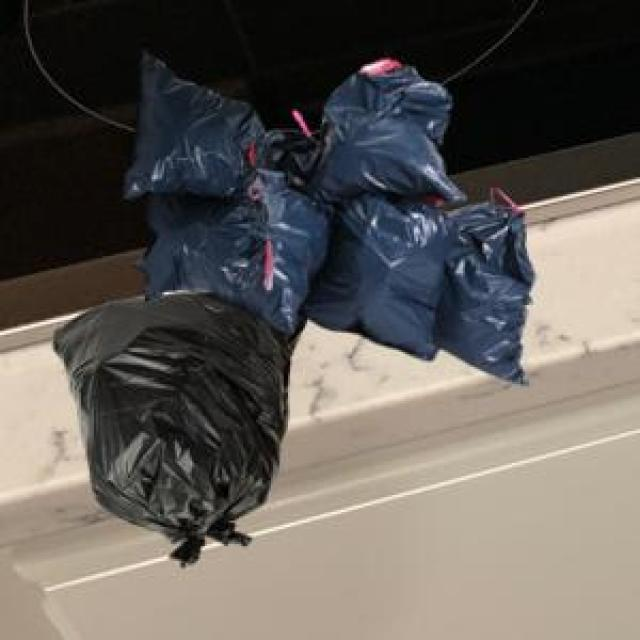waste: (54, 55, 534, 563)
